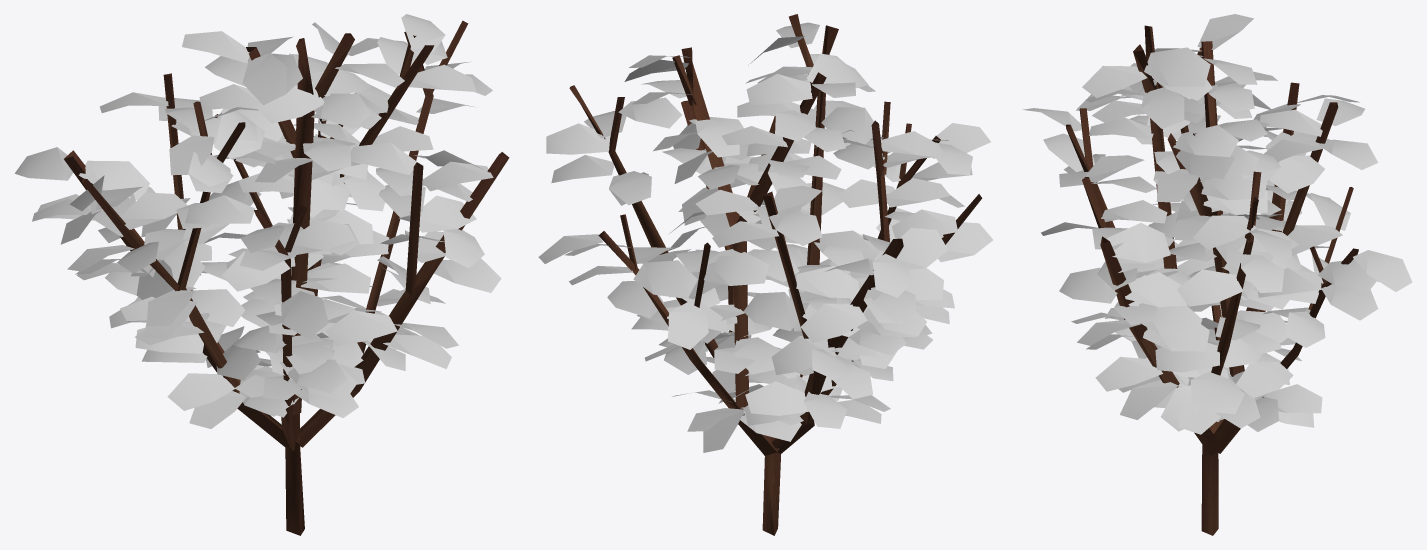
The model's file is Tree_Leaf.fbx.
The picture shows the model from 3 angles, left to right: view 1: azimuth 30°, elevation 25°; view 2: azimuth 150°, elevation 25°; view 3: azimuth 270°, elevation 25°; orthographic projection. The views are drawn at different scales.
Visible parts, largest first — view 1: leaf.001, BigTreeNokrei; view 2: leaf.001, BigTreeNokrei; view 3: leaf.001, BigTreeNokrei.
Part boxes in pixels (x1,y1,x2,y2): leaf.001: [15, 14, 501, 428]; BigTreeNokrei: [64, 20, 509, 535]; leaf.001: [538, 22, 992, 452]; BigTreeNokrei: [569, 14, 982, 535]; leaf.001: [1022, 14, 1412, 434]; BigTreeNokrei: [1066, 25, 1358, 535].
Size of the model in its own units: 1236 by 1444 by 1036.
